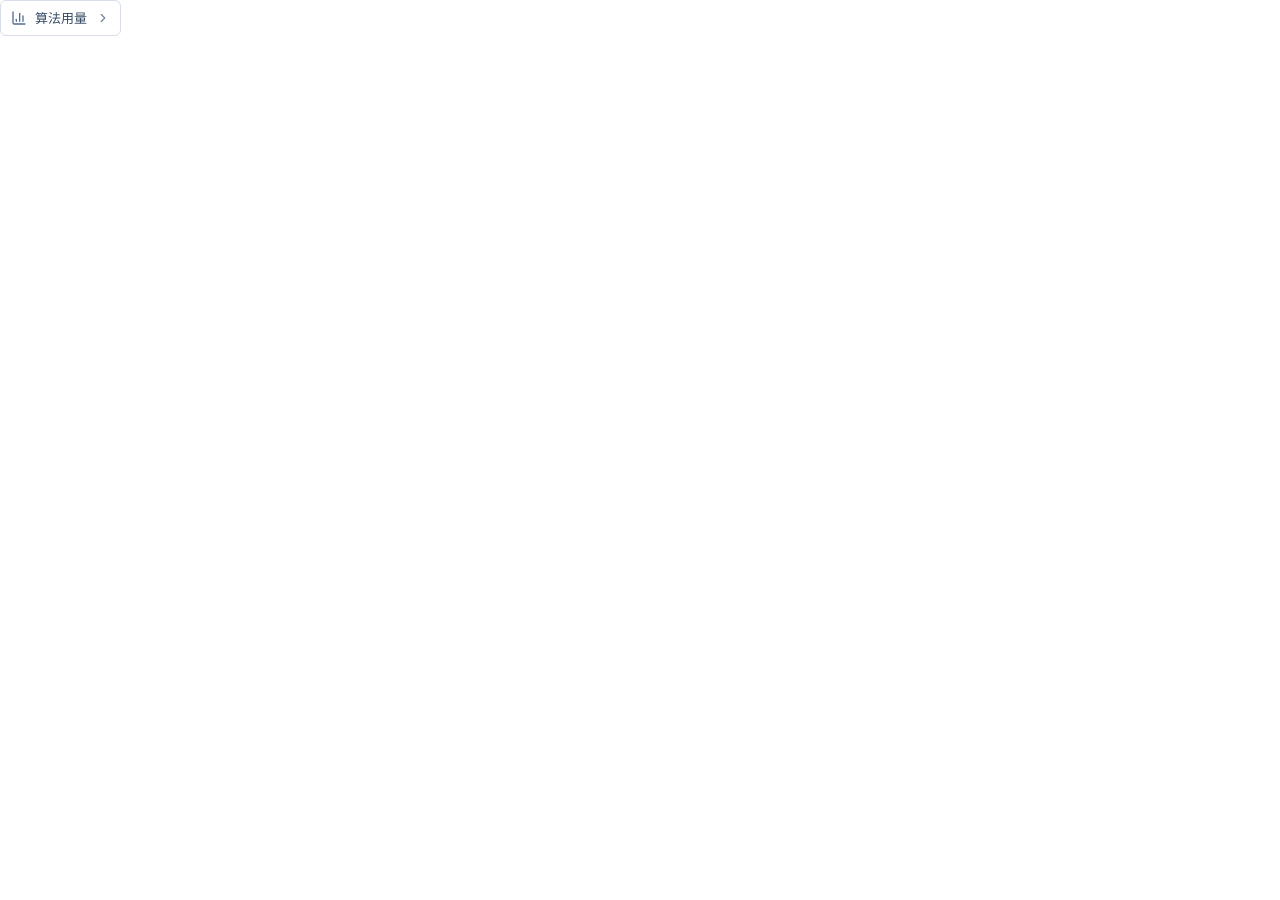
Test: shows requests, cache hits, and tokens for TrajDebug together in a multi-engine run
Click the button "算法用量".
click(60, 18)  # box [0,0,121,36]
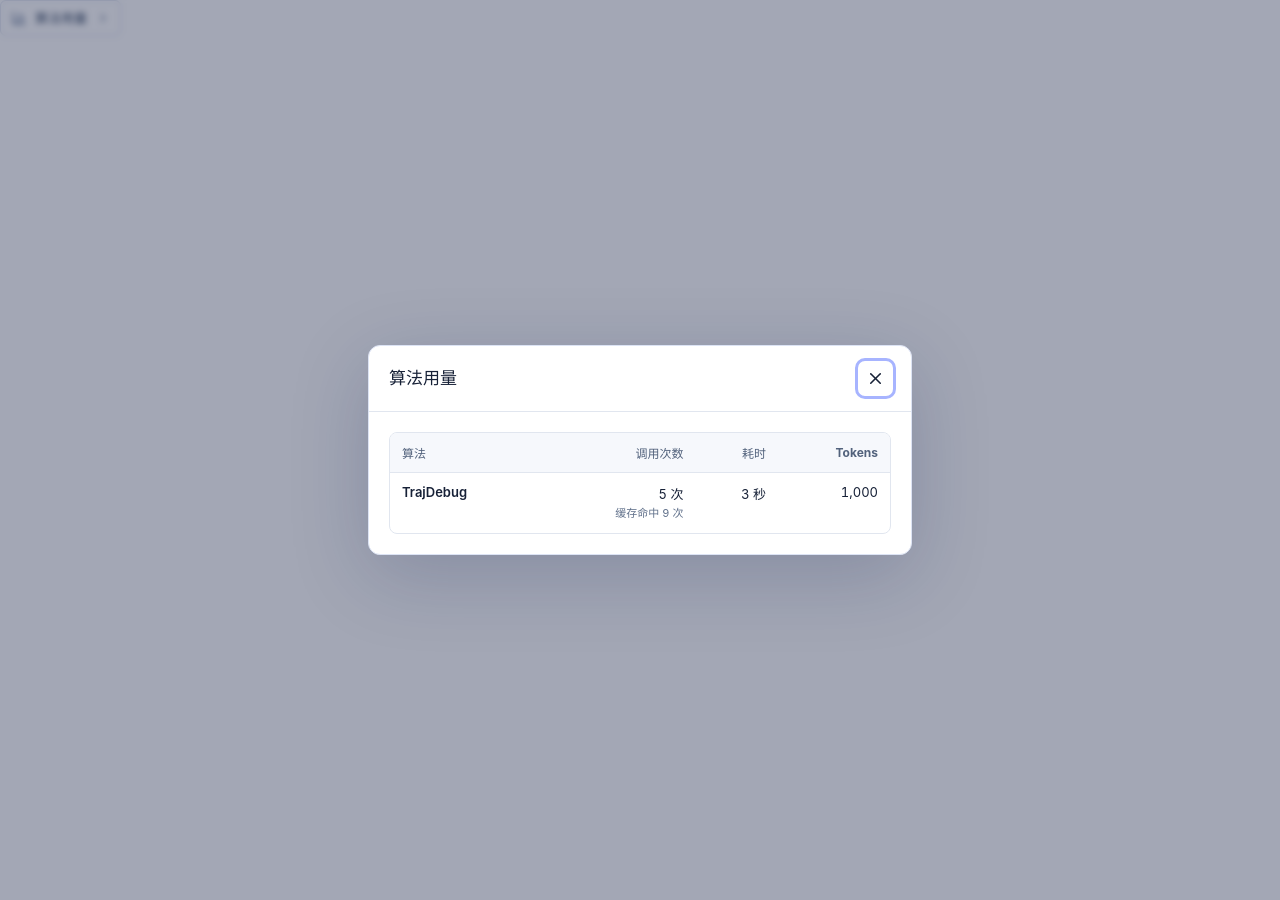
Check: the cells read "5 次缓存命中 9 次", "3 秒", "1,000", in this order, box [540,473,695,533]; [695,473,778,533]; [778,473,890,533]
